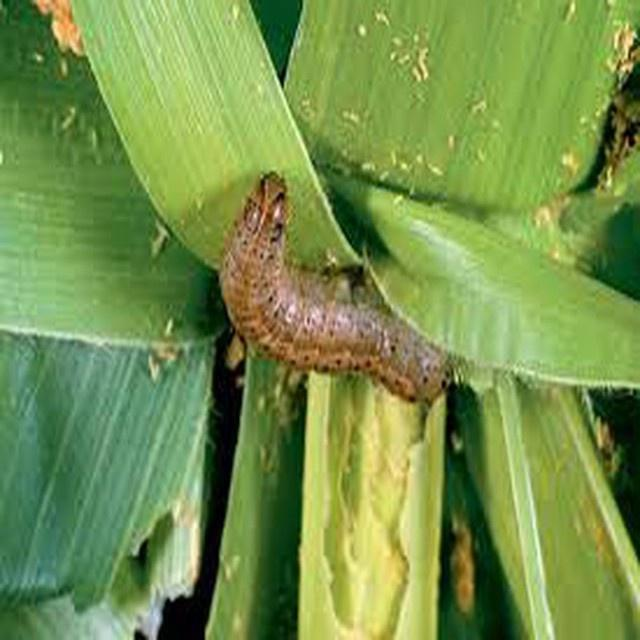gusano_cogollero: (225, 168, 445, 388)
